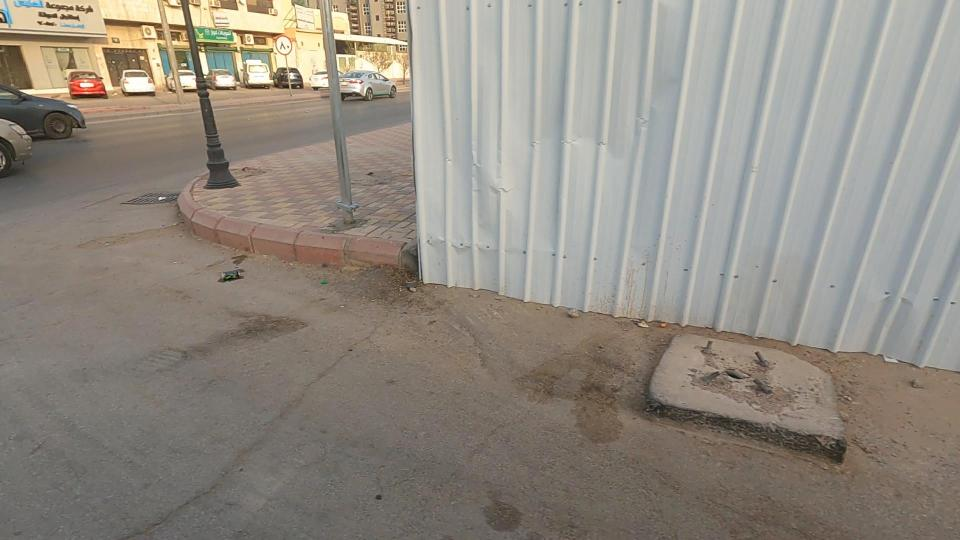GARBAGE: (167, 213, 318, 360)
